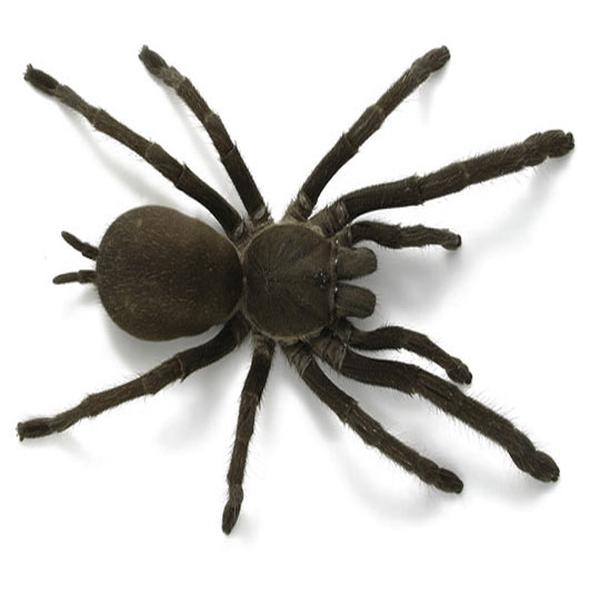Tarantula Spider: (30, 53, 564, 519)
